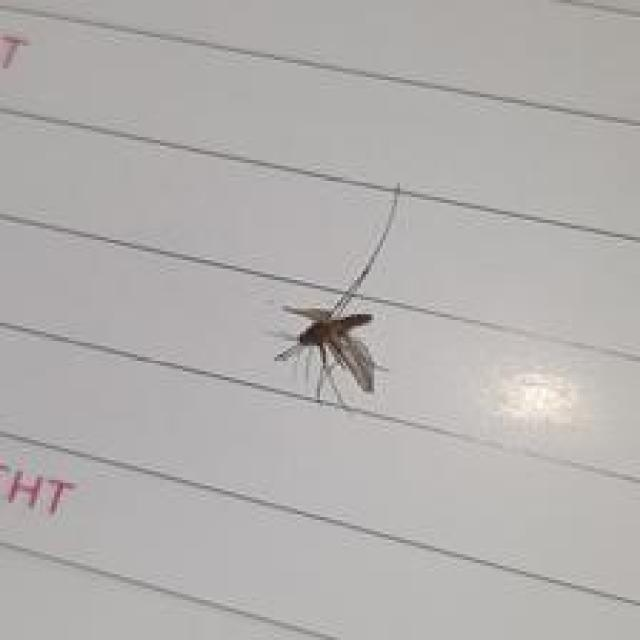Culex: (273, 302, 387, 407)
